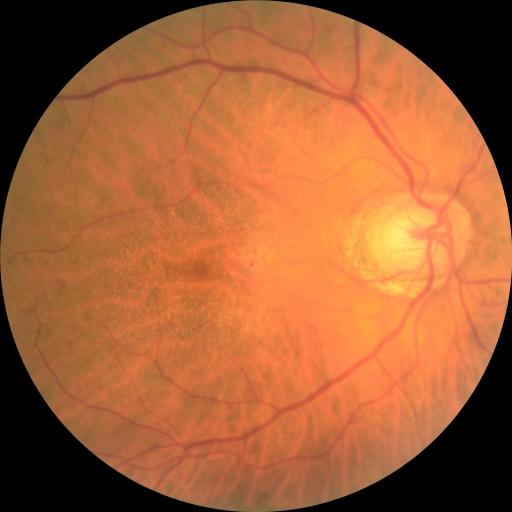Optic Cup: (384, 210, 438, 265)
Optic Disc: (366, 193, 471, 280)
